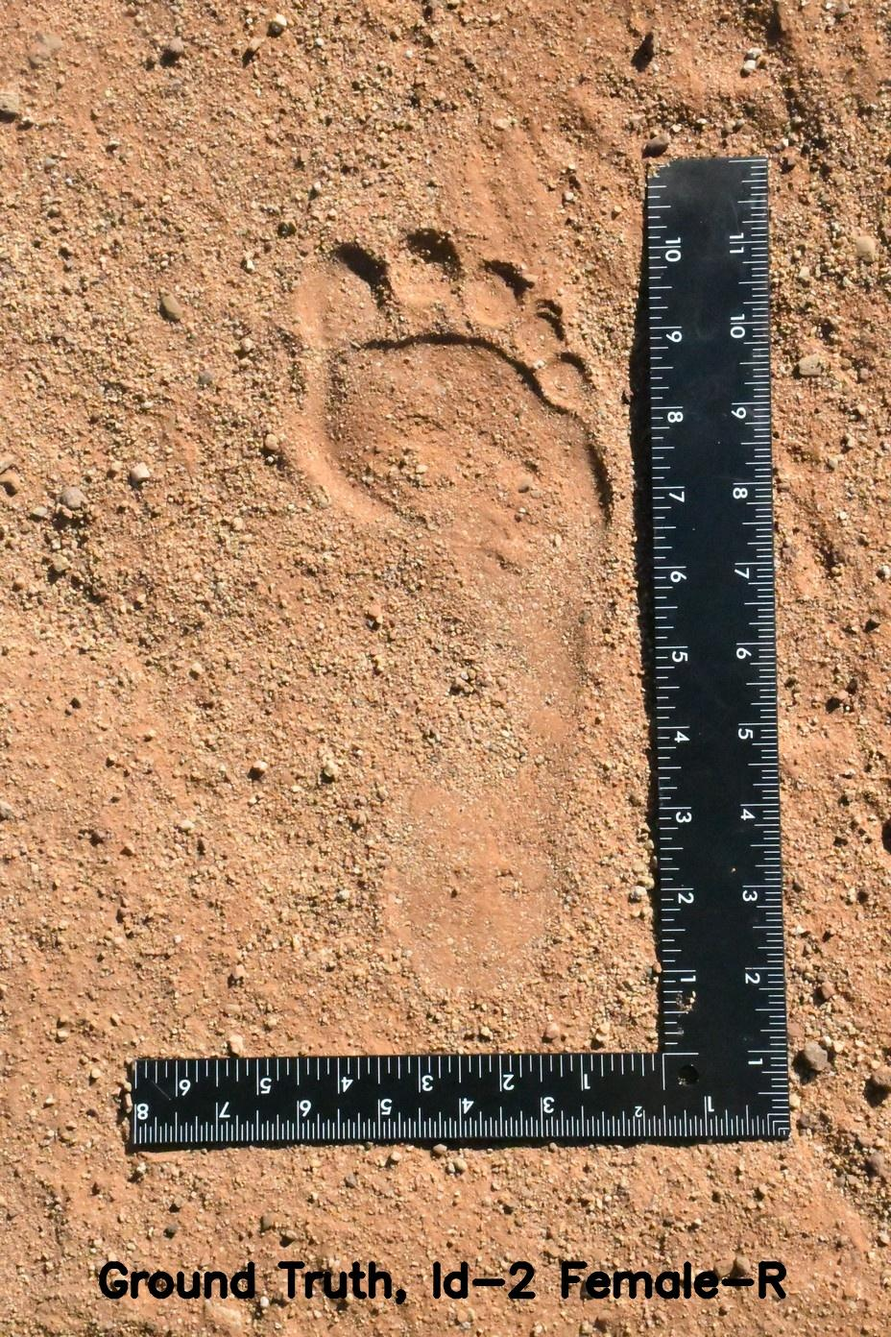human_footprint: (257, 186, 637, 1014)
